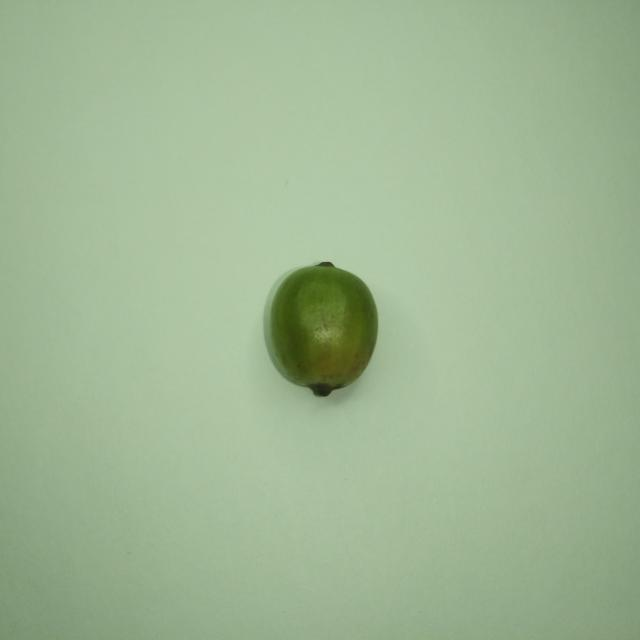Sano: (272, 263, 376, 393)
